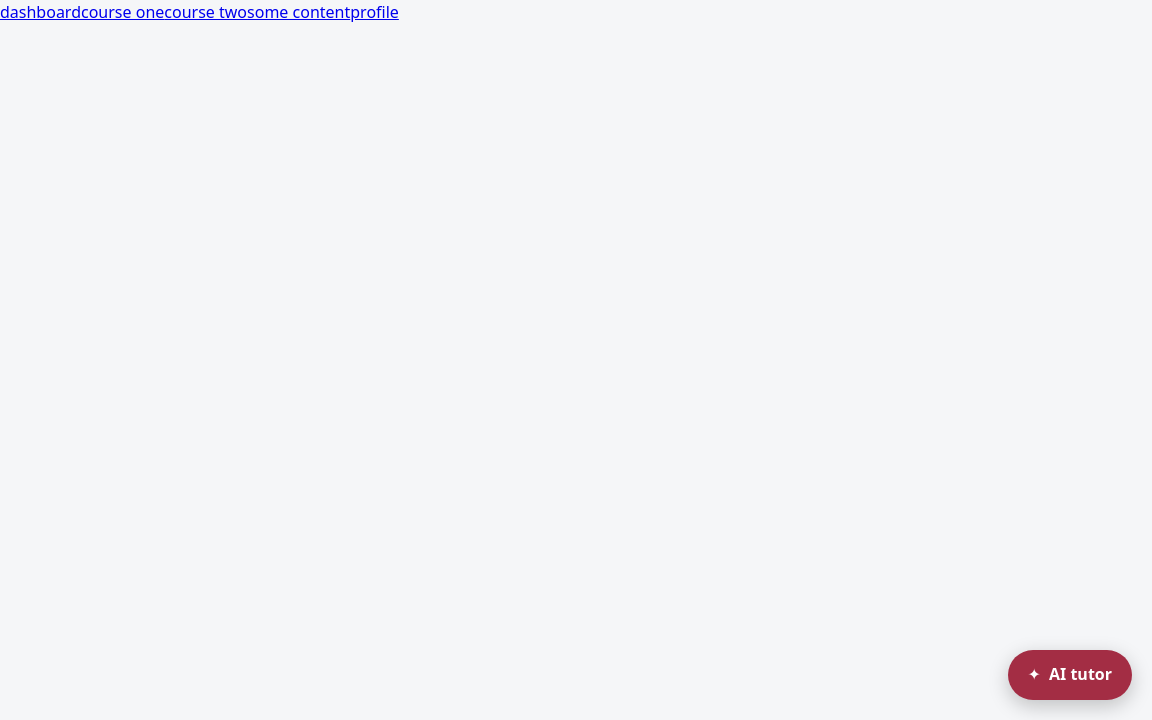
Scenario: TutorWidget › opening and closing › closes with the close button and returns focus to the launcher
Click the button "✦ AI tutor" at (1070, 675), box [1008,650,1132,700]
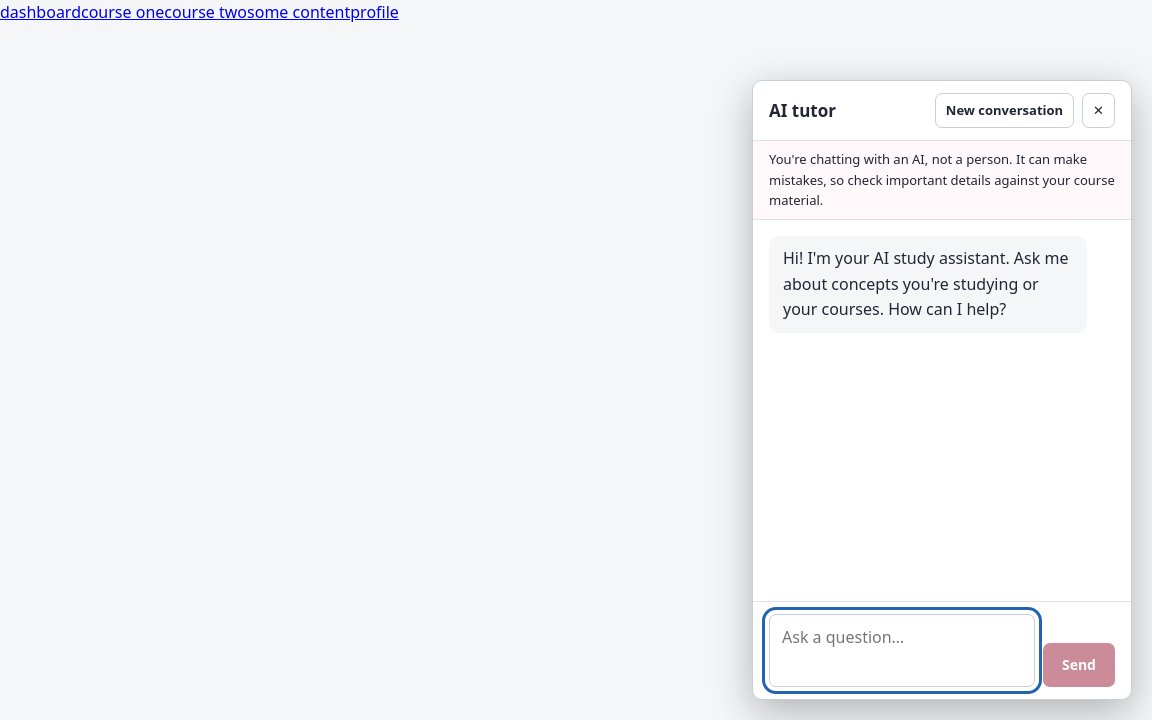
Click the button named "Close AI tutor" at (1099, 110), box [1082,93,1115,128]
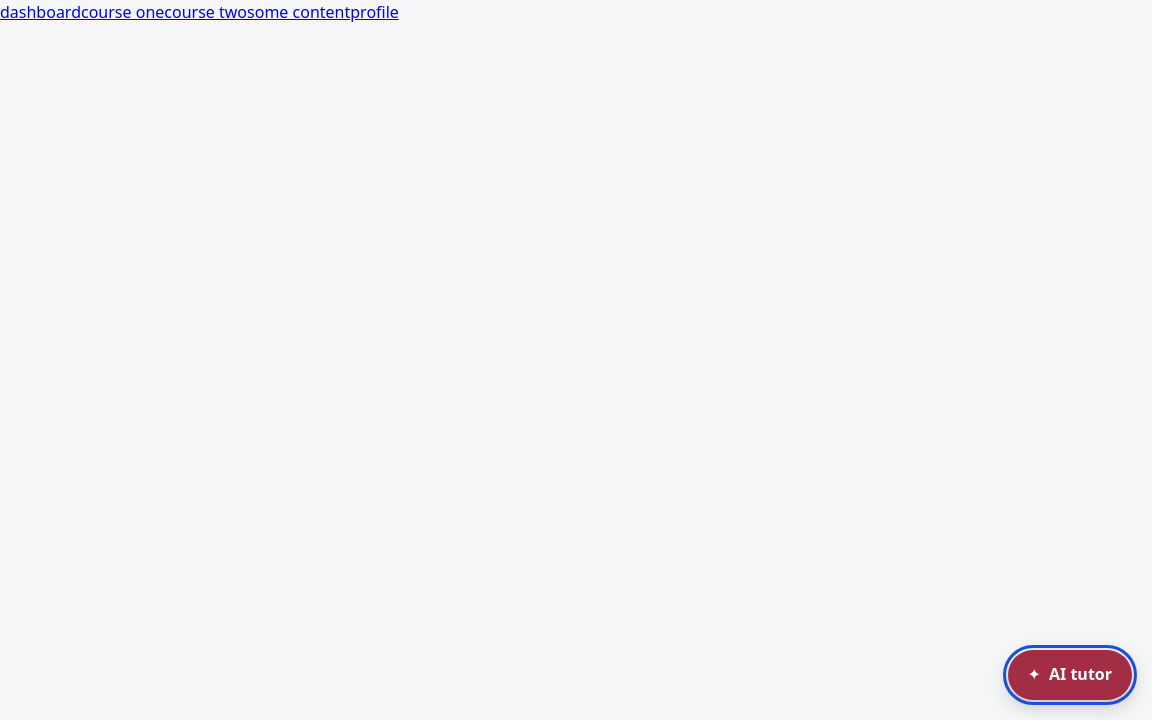
Expected: the dialog is gone
